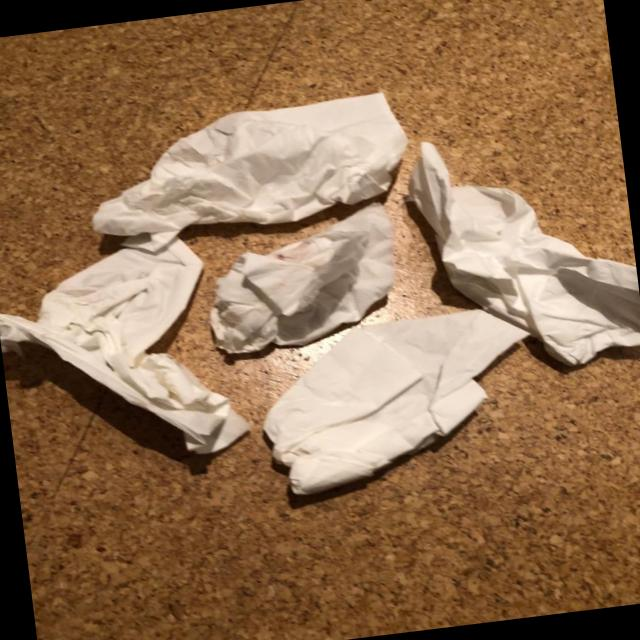organic waste: (0, 230, 257, 482), (402, 115, 640, 387), (251, 296, 547, 502), (71, 86, 415, 247), (198, 198, 406, 356)
